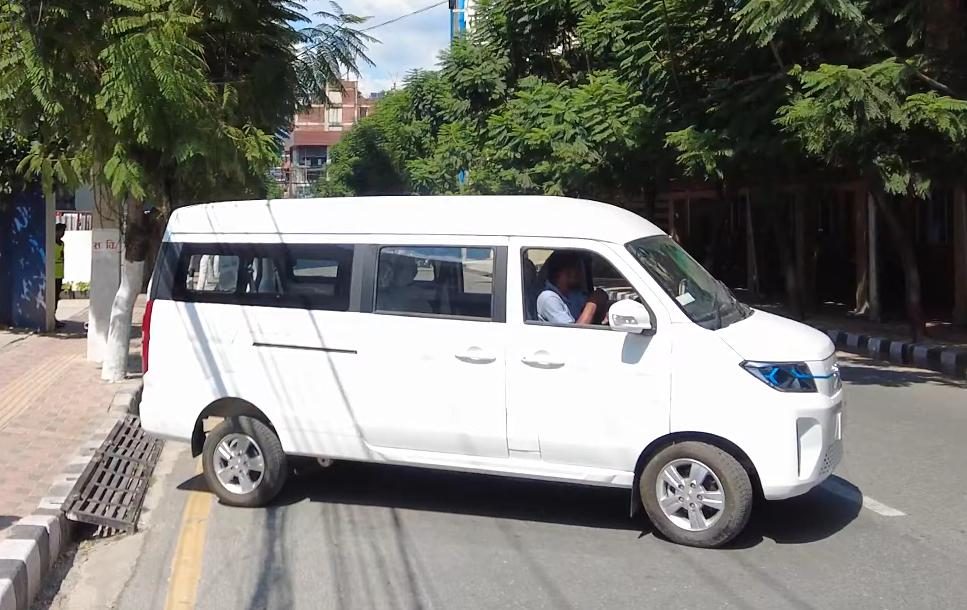micro_bus: (138, 192, 855, 561)
